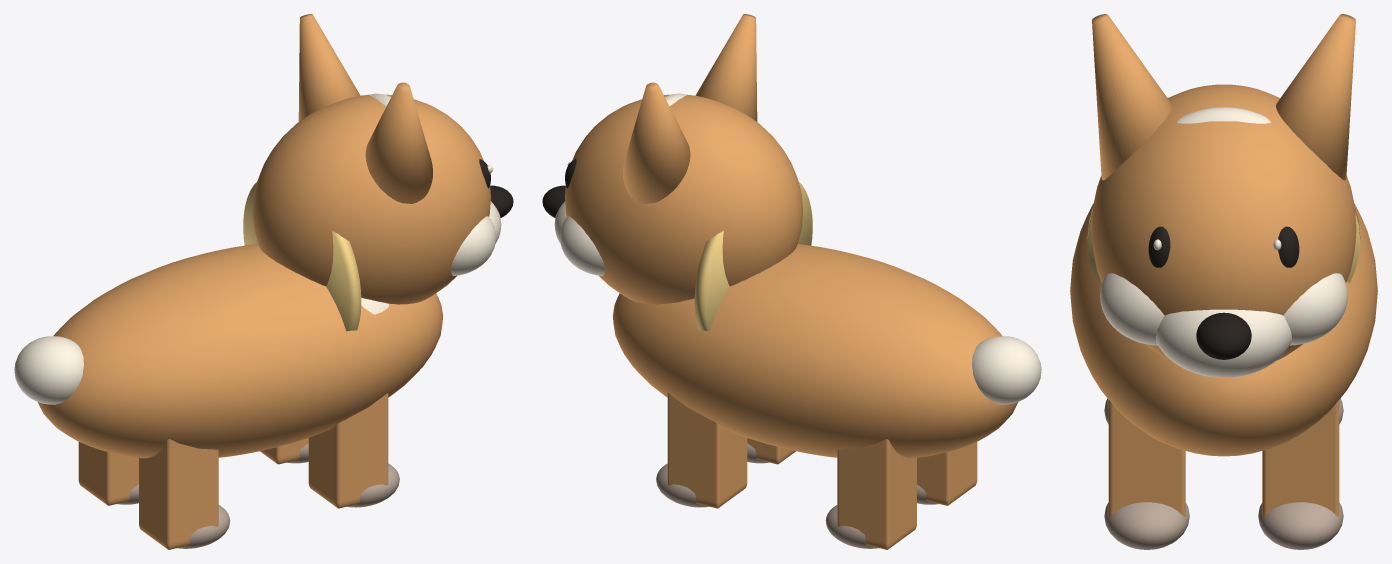
Rendered from clap-corgi.glb.
The picture shows the model from 3 angles, left to right: view 1: azimuth 30°, elevation 25°; view 2: azimuth 150°, elevation 25°; view 3: azimuth 270°, elevation 25°; orthographic projection. The views are drawn at different scales.
Visible parts, largest first — view 1: body, head, leg -0.62 -0.36, leg 0.55 -0.36, left ear, round tail, right ear, gold collar, leg -0.62 0.36, left cheek, paw -0.62 -0.36, paw 0.55 -0.36 (+1 smaller); view 2: body, head, leg -0.62 0.36, leg 0.55 0.36, right ear, round tail, left ear, gold collar, leg -0.62 -0.36, right cheek, paw -0.62 0.36, paw 0.55 0.36 (+1 smaller); view 3: head, body, left ear, right ear, leg 0.55 -0.36, leg 0.55 0.36, round muzzle, paw 0.55 -0.36, paw 0.55 0.36, left cheek, right cheek, nose (+4 smaller).
Boxes of the visible parts, bbox=[...] form: body: bbox=[37, 244, 443, 458]; head: bbox=[253, 94, 490, 304]; leg -0.62 -0.36: bbox=[139, 439, 218, 549]; leg 0.55 -0.36: bbox=[308, 393, 388, 508]; left ear: bbox=[365, 82, 432, 203]; round tail: bbox=[14, 336, 83, 404]; right ear: bbox=[298, 14, 360, 121]; gold collar: bbox=[243, 182, 361, 331]; leg -0.62 0.36: bbox=[78, 442, 138, 505]; left cheek: bbox=[451, 216, 495, 275]; paw -0.62 -0.36: bbox=[177, 505, 230, 548]; paw 0.55 -0.36: bbox=[347, 463, 399, 507]; body: bbox=[612, 244, 1018, 458]; head: bbox=[565, 94, 802, 304]; leg -0.62 0.36: bbox=[837, 439, 916, 549]; leg 0.55 0.36: bbox=[667, 393, 747, 508]; right ear: bbox=[623, 82, 690, 203]; round tail: bbox=[972, 336, 1041, 404]; left ear: bbox=[695, 14, 757, 121]; gold collar: bbox=[694, 182, 812, 331]; leg -0.62 -0.36: bbox=[917, 442, 977, 505]; right cheek: bbox=[560, 216, 604, 275]; paw -0.62 0.36: bbox=[825, 505, 878, 548]; paw 0.55 0.36: bbox=[656, 463, 708, 507]; head: bbox=[1091, 84, 1356, 360]; body: bbox=[1070, 203, 1377, 456]; left ear: bbox=[1092, 14, 1171, 180]; right ear: bbox=[1276, 14, 1355, 180]; leg 0.55 -0.36: bbox=[1108, 400, 1185, 516]; leg 0.55 0.36: bbox=[1262, 400, 1339, 516]; round muzzle: bbox=[1156, 309, 1291, 377]; paw 0.55 -0.36: bbox=[1104, 502, 1189, 549]; paw 0.55 0.36: bbox=[1258, 502, 1343, 549]; left cheek: bbox=[1100, 273, 1164, 345]; right cheek: bbox=[1283, 273, 1347, 345]; nose: bbox=[1196, 312, 1251, 359].
Bounding box in the file's own units: 3.39 × 2.8 × 1.44.
